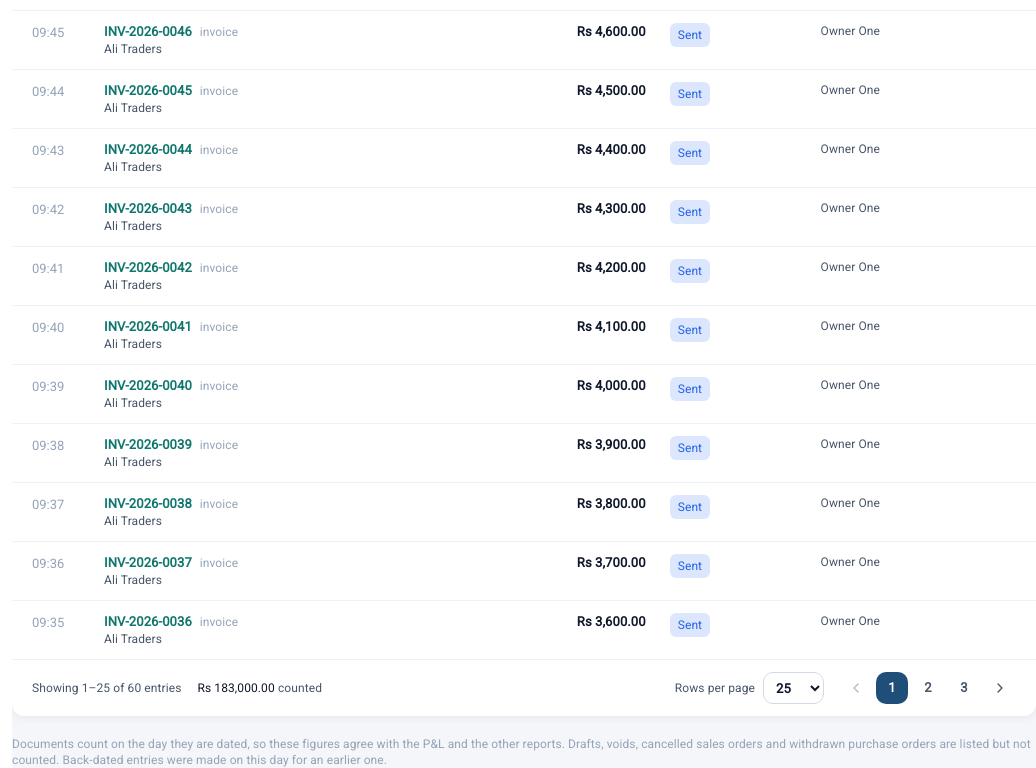
Test: DaySummaryPage › a busy day › pages the Day Book: 25 a page, where the reader is, and the next page on request
The image size is (1036, 768).
(page scrolled)
Expected: the text "Showing 1–25 of 60 entries" is shown, [32,680,182,696]
Step 1. Click the button named "Next page" → point(1000, 688), box [984,672,1016,704]
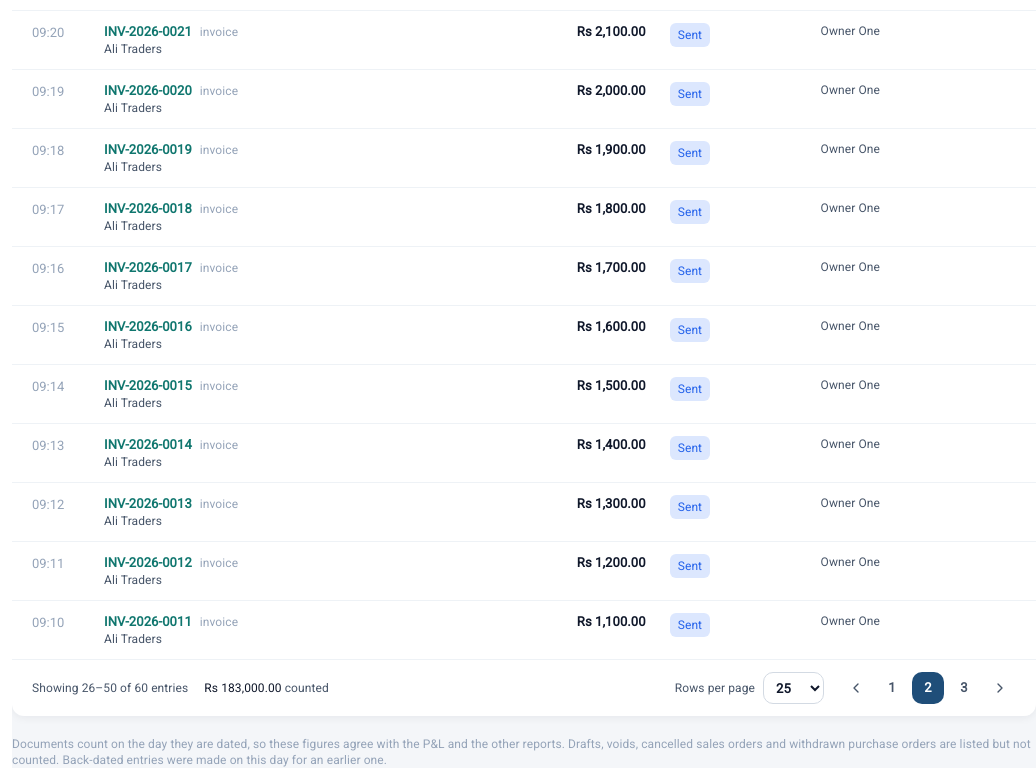
Now the text "Showing 26–50 of 60 entries" is shown, box [32,680,188,696]
